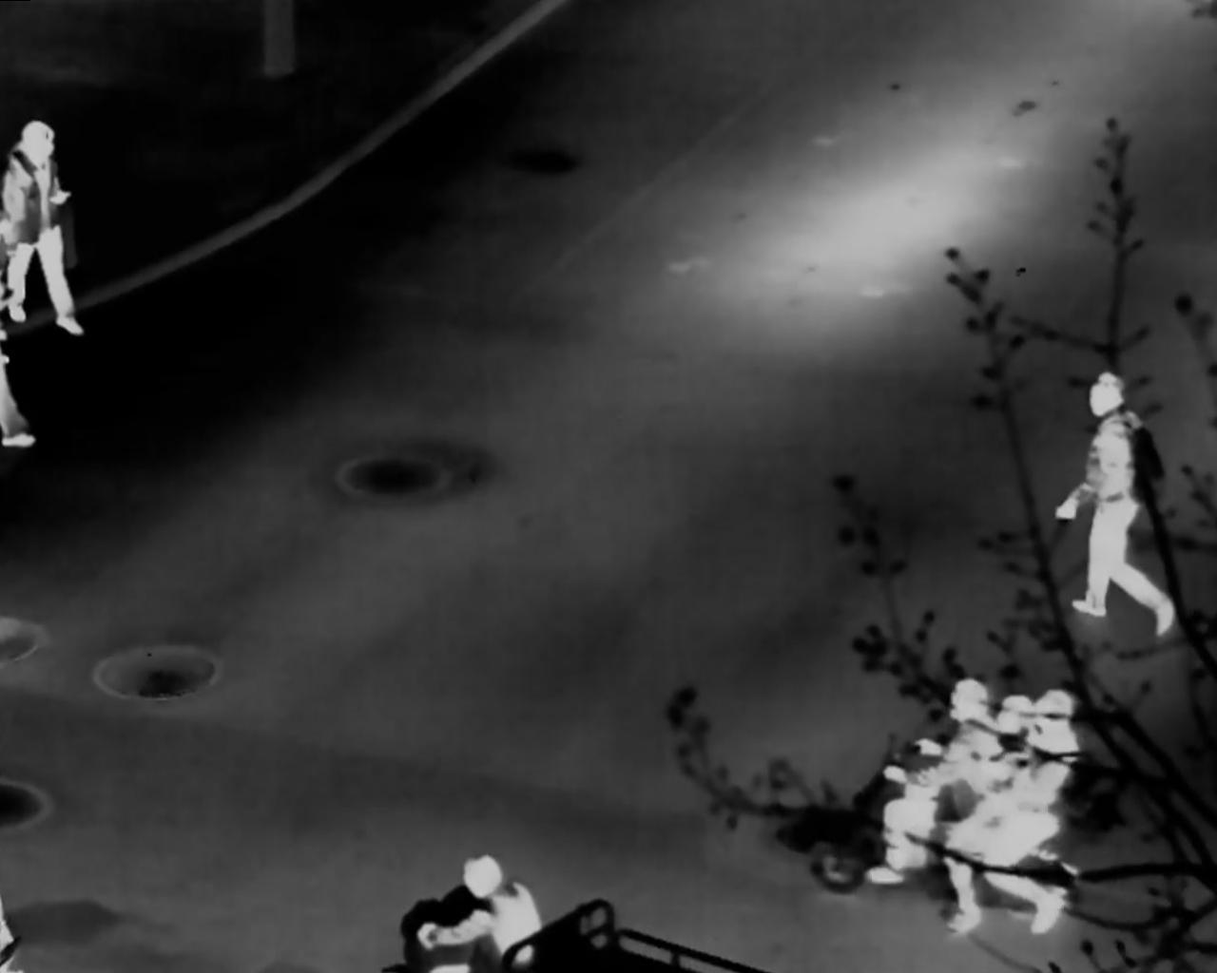person: (1053, 371, 1176, 639), (950, 688, 1072, 936), (876, 675, 997, 885), (952, 687, 1034, 944), (4, 120, 85, 334), (416, 851, 543, 973)
